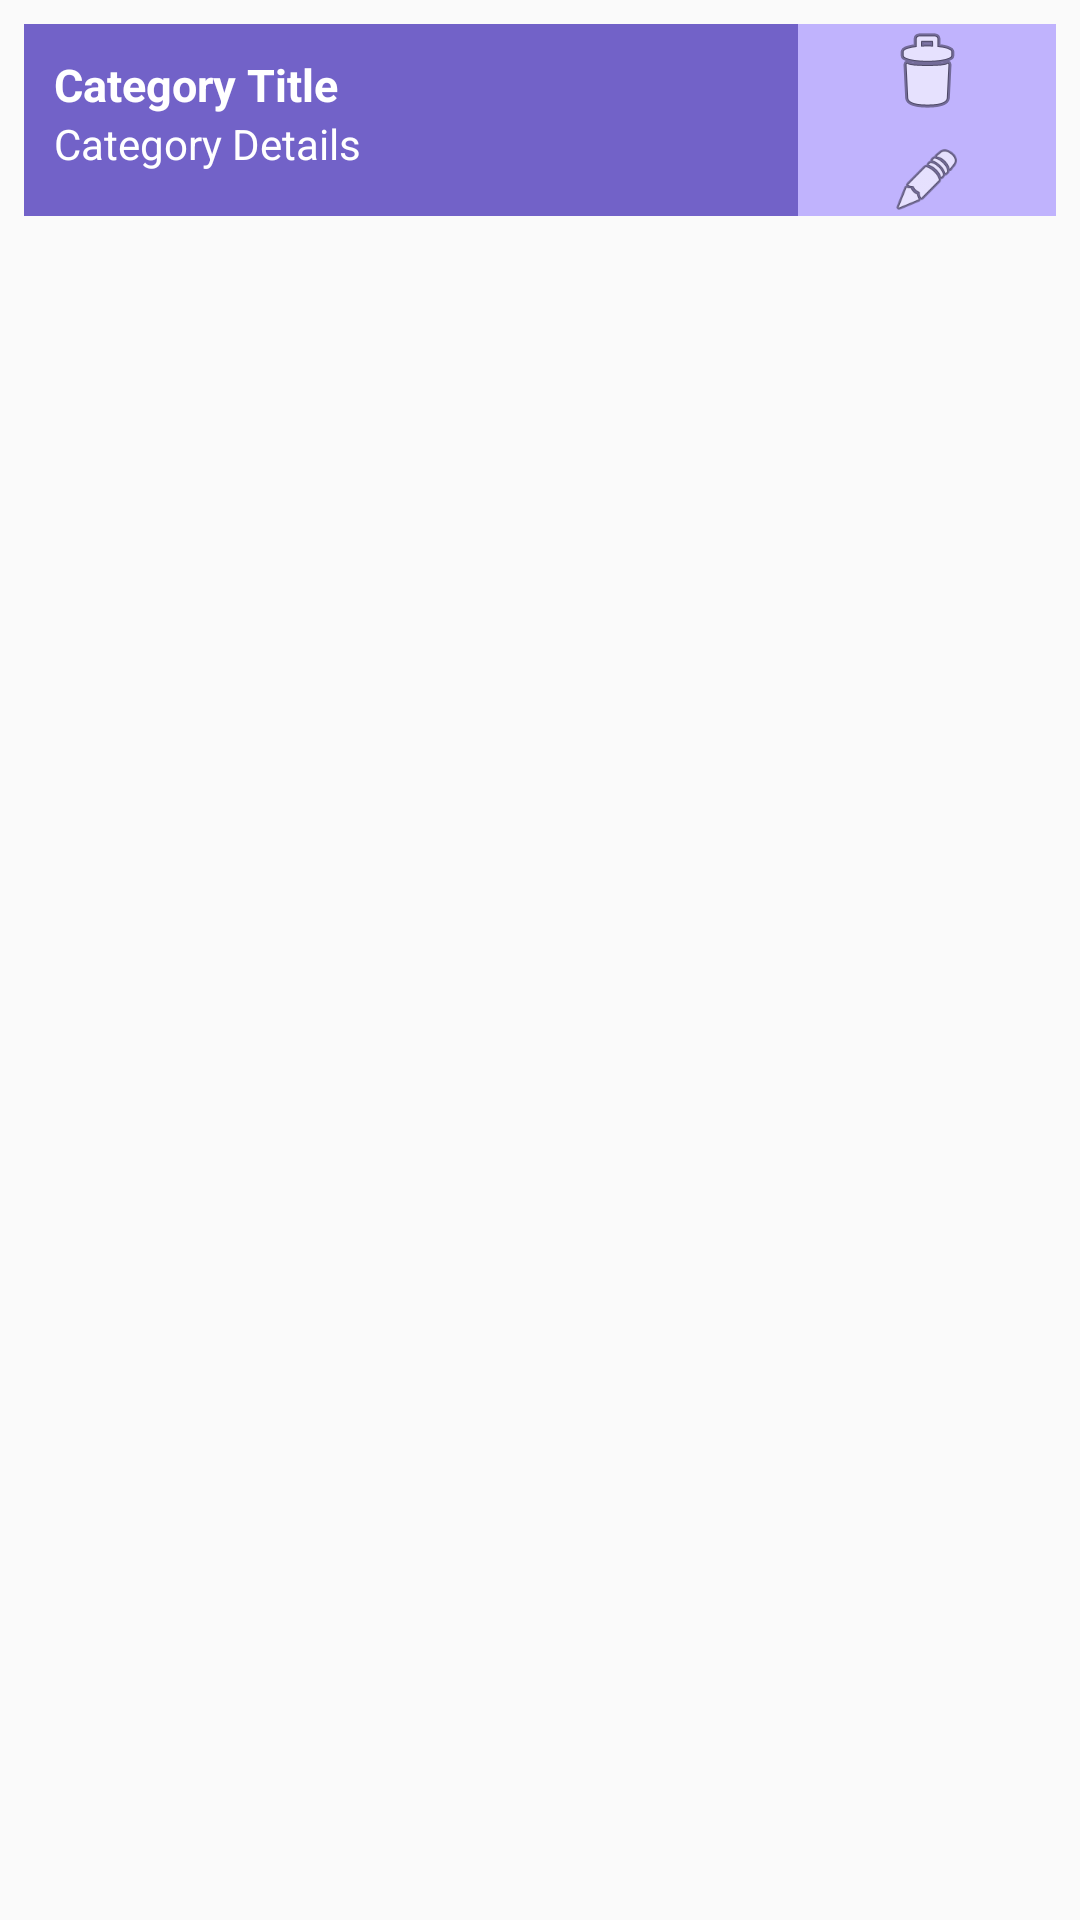

Icons on this 1080 x 1920 Android screen, each with the point to tap as [x,y]:
Delete Category: [927,70]
Edit Category: [926,179]
